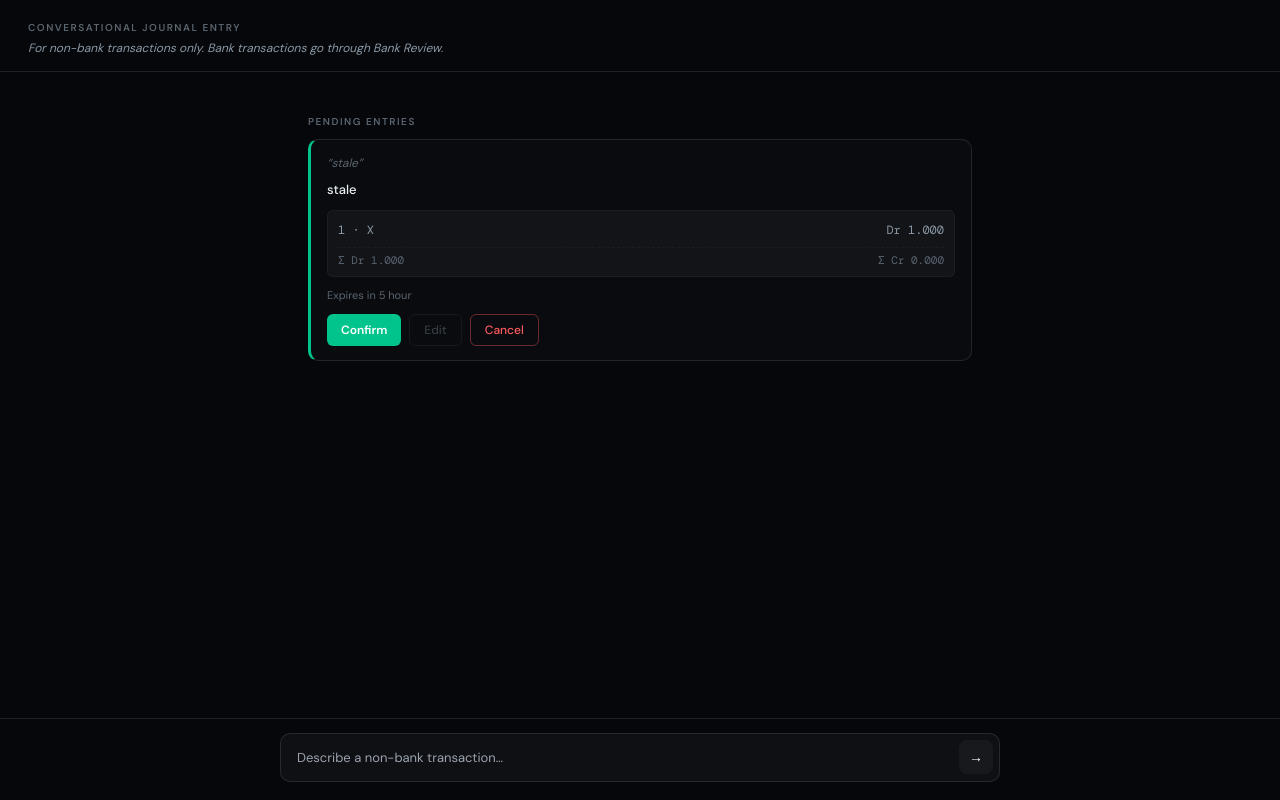
Test: HASEEB-406 — ConversationalJEScreen multi-pending UI › (5) a 409 STALE_CONFIRMATION on confirm shows "already processed" and drops the stale card
Expected: the element with test id "pending-card-c-stale" is shown, [308,139,972,360]
Click the button with aria-label "Confirm" at (364, 330), box [327,314,401,346]
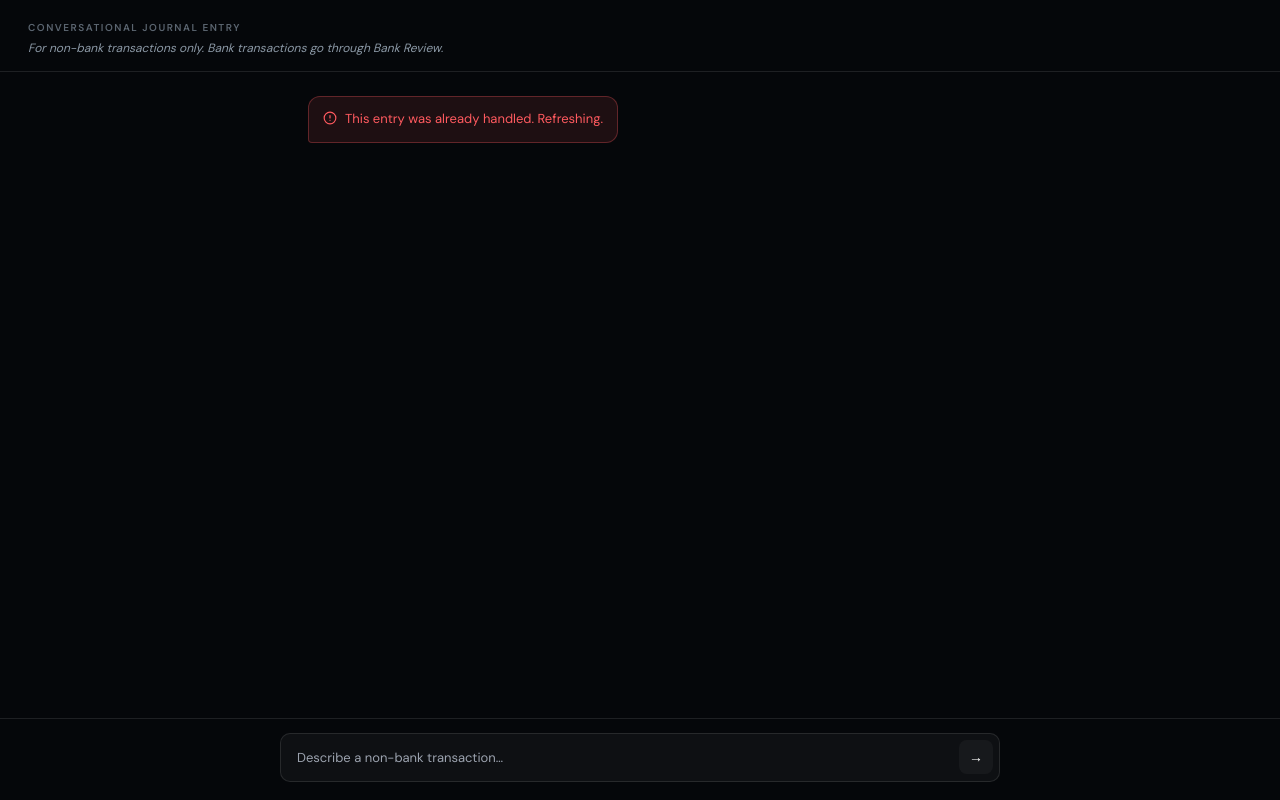
Now the element with test id "pending-card-c-stale" is gone
Now the text "This entry was already handled. Refreshing." is shown, box [345,109,603,130]
